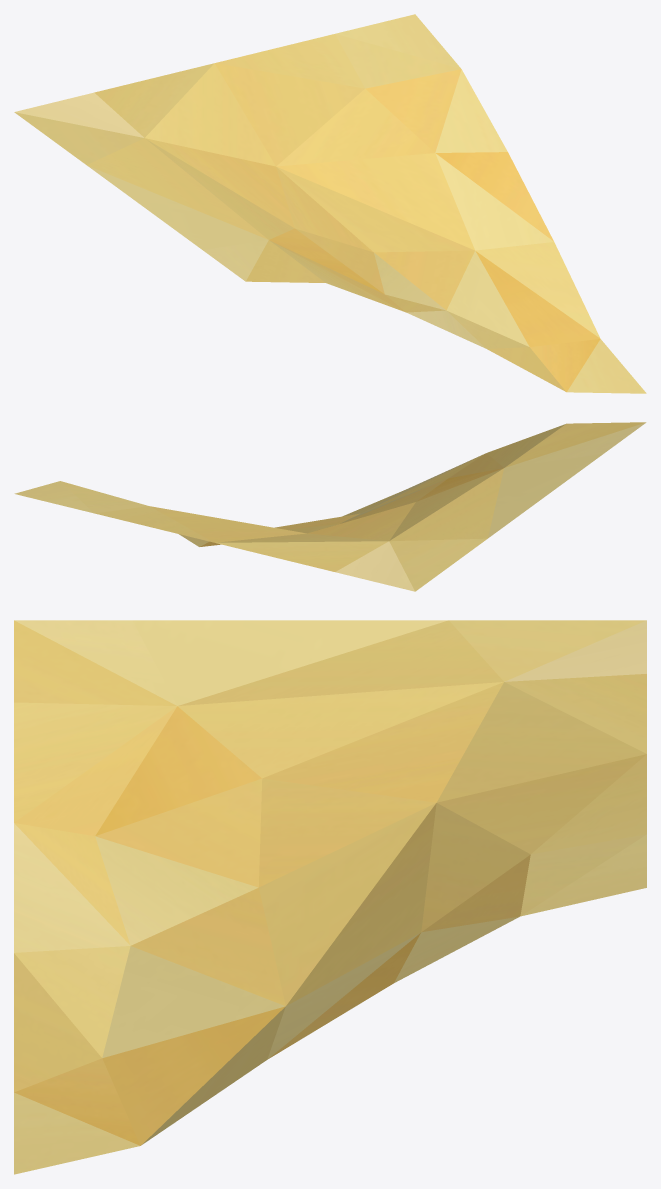
The model's file is GL-Terrain-part-08-LOD3.fbx.
3 renders of one model, top to bottom at view 1: azimuth 30°, elevation 25°; view 2: azimuth 150°, elevation 25°; view 3: azimuth 270°, elevation 25°, orthographic. The views are drawn at different scales.
Parts seen in each view (by area): view 1: GL_Terrain_part_08; view 2: GL_Terrain_part_08; view 3: GL_Terrain_part_08.
Part boxes in pixels (bbox=[...]): GL_Terrain_part_08: bbox=[14, 14, 646, 393]; GL_Terrain_part_08: bbox=[14, 422, 646, 591]; GL_Terrain_part_08: bbox=[14, 620, 646, 1174].
Bounding box in the file's own units: 6 × 3 × 6.
